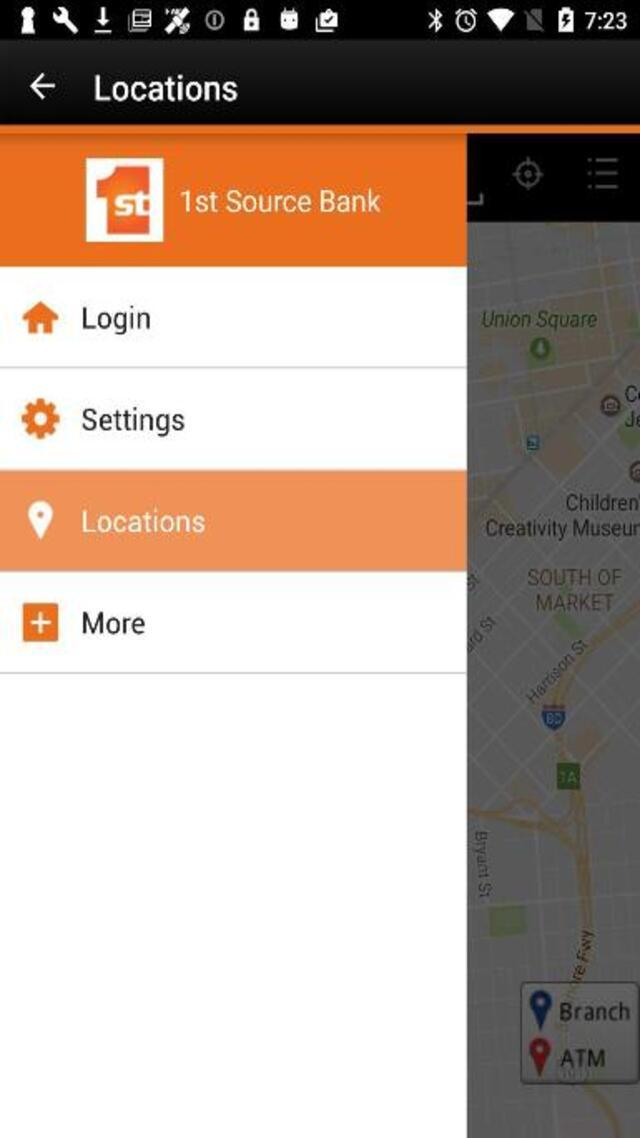Icon: (21, 398, 59, 438), (22, 603, 58, 642), (22, 302, 58, 336), (28, 500, 52, 542), (29, 72, 56, 99)
Image: (85, 157, 163, 241)
Text: (182, 188, 380, 214), (95, 73, 238, 101), (82, 406, 185, 438), (82, 506, 205, 532), (82, 304, 152, 336), (82, 610, 144, 635)
